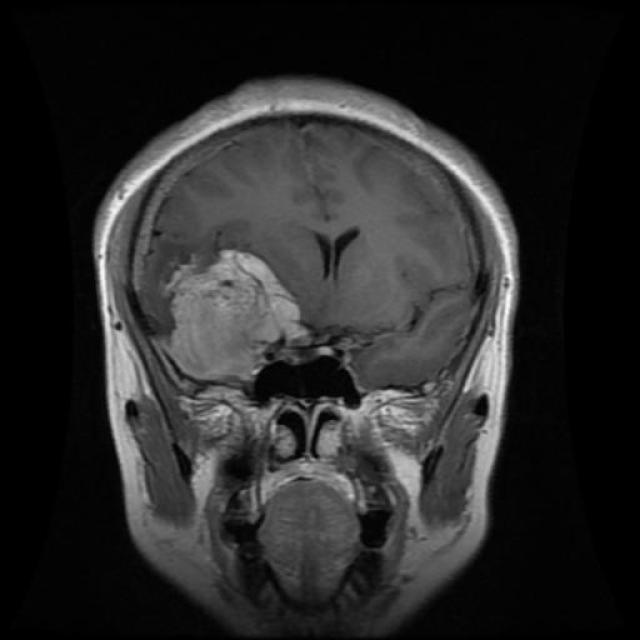meningioma: (172, 251, 308, 382)
